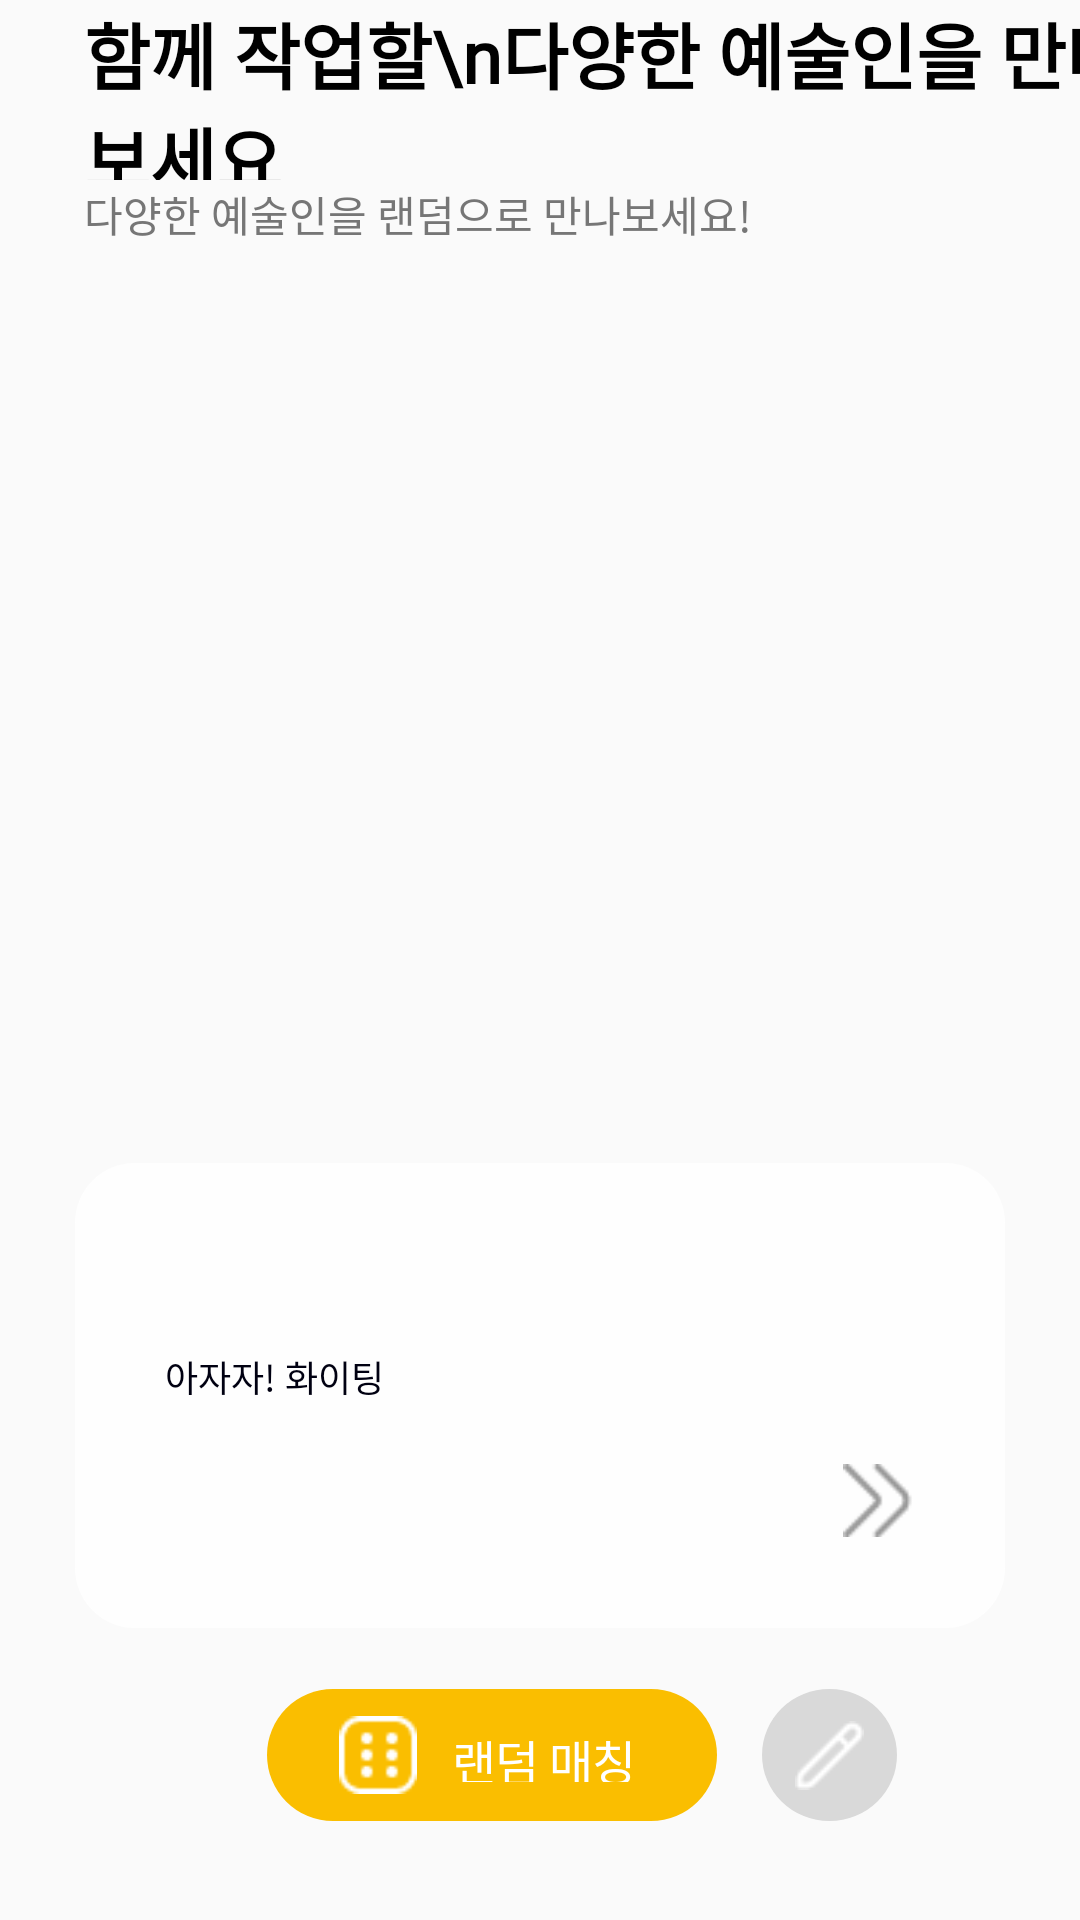

Named icons in this screenshot (1080w x 1920h) and their centers, point (x, y):
dice: point (378, 1755)
